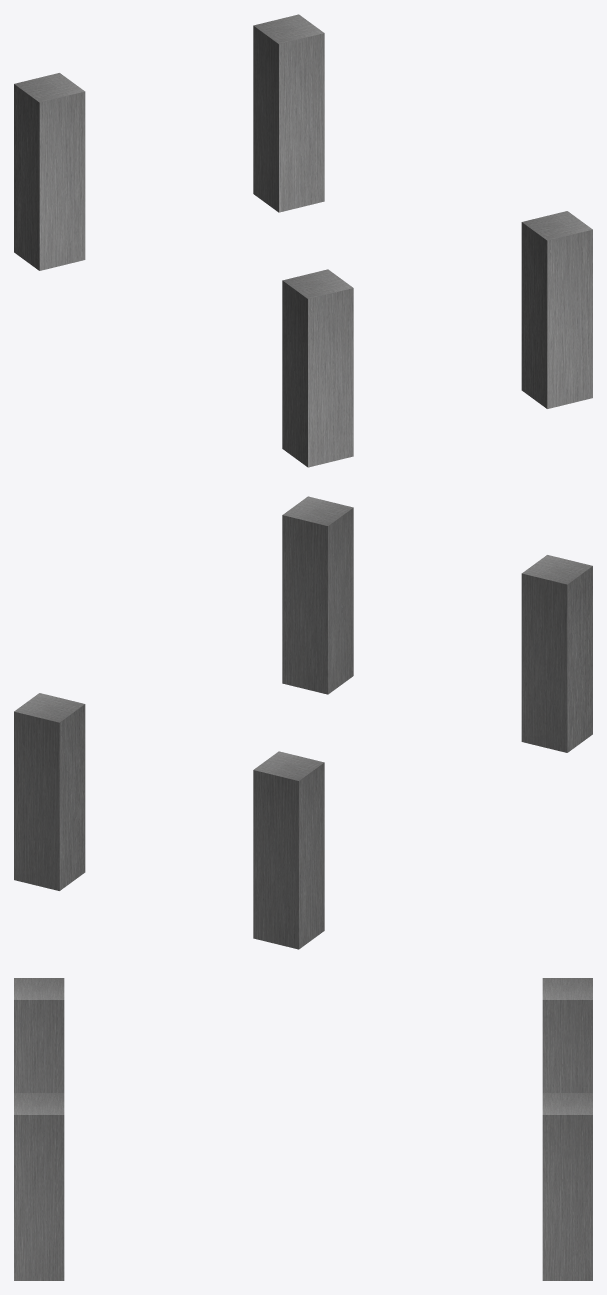
Rendered from zenoPatasMetal.glb.
3 renders of one model, top to bottom at view 1: azimuth 30°, elevation 25°; view 2: azimuth 150°, elevation 25°; view 3: azimuth 270°, elevation 25°, orthographic.
Parts seen in each view (by area): view 1: Cube.004, Cube.007, Cube.005, Cube.006; view 2: Cube.005, Cube.006, Cube.004, Cube.007; view 3: Cube.005, Cube.007, Cube.004, Cube.006.
Boxes of the visible parts, x1=… form: Cube.004: x1=282, y1=269, x2=353, y2=467; Cube.007: x1=253, y1=14, x2=324, y2=212; Cube.005: x1=521, y1=211, x2=592, y2=408; Cube.006: x1=14, y1=73, x2=85, y2=270; Cube.005: x1=282, y1=496, x2=353, y2=694; Cube.006: x1=253, y1=751, x2=324, y2=949; Cube.004: x1=521, y1=555, x2=592, y2=752; Cube.007: x1=14, y1=693, x2=85, y2=890; Cube.005: x1=14, y1=1093, x2=64, y2=1280; Cube.007: x1=542, y1=1093, x2=592, y2=1280; Cube.004: x1=14, y1=978, x2=64, y2=1092; Cube.006: x1=542, y1=978, x2=592, y2=1092.
Bounding box in the file's own units: 1.88 × 1.06 × 3.37.
4 materials, 4 textured.
